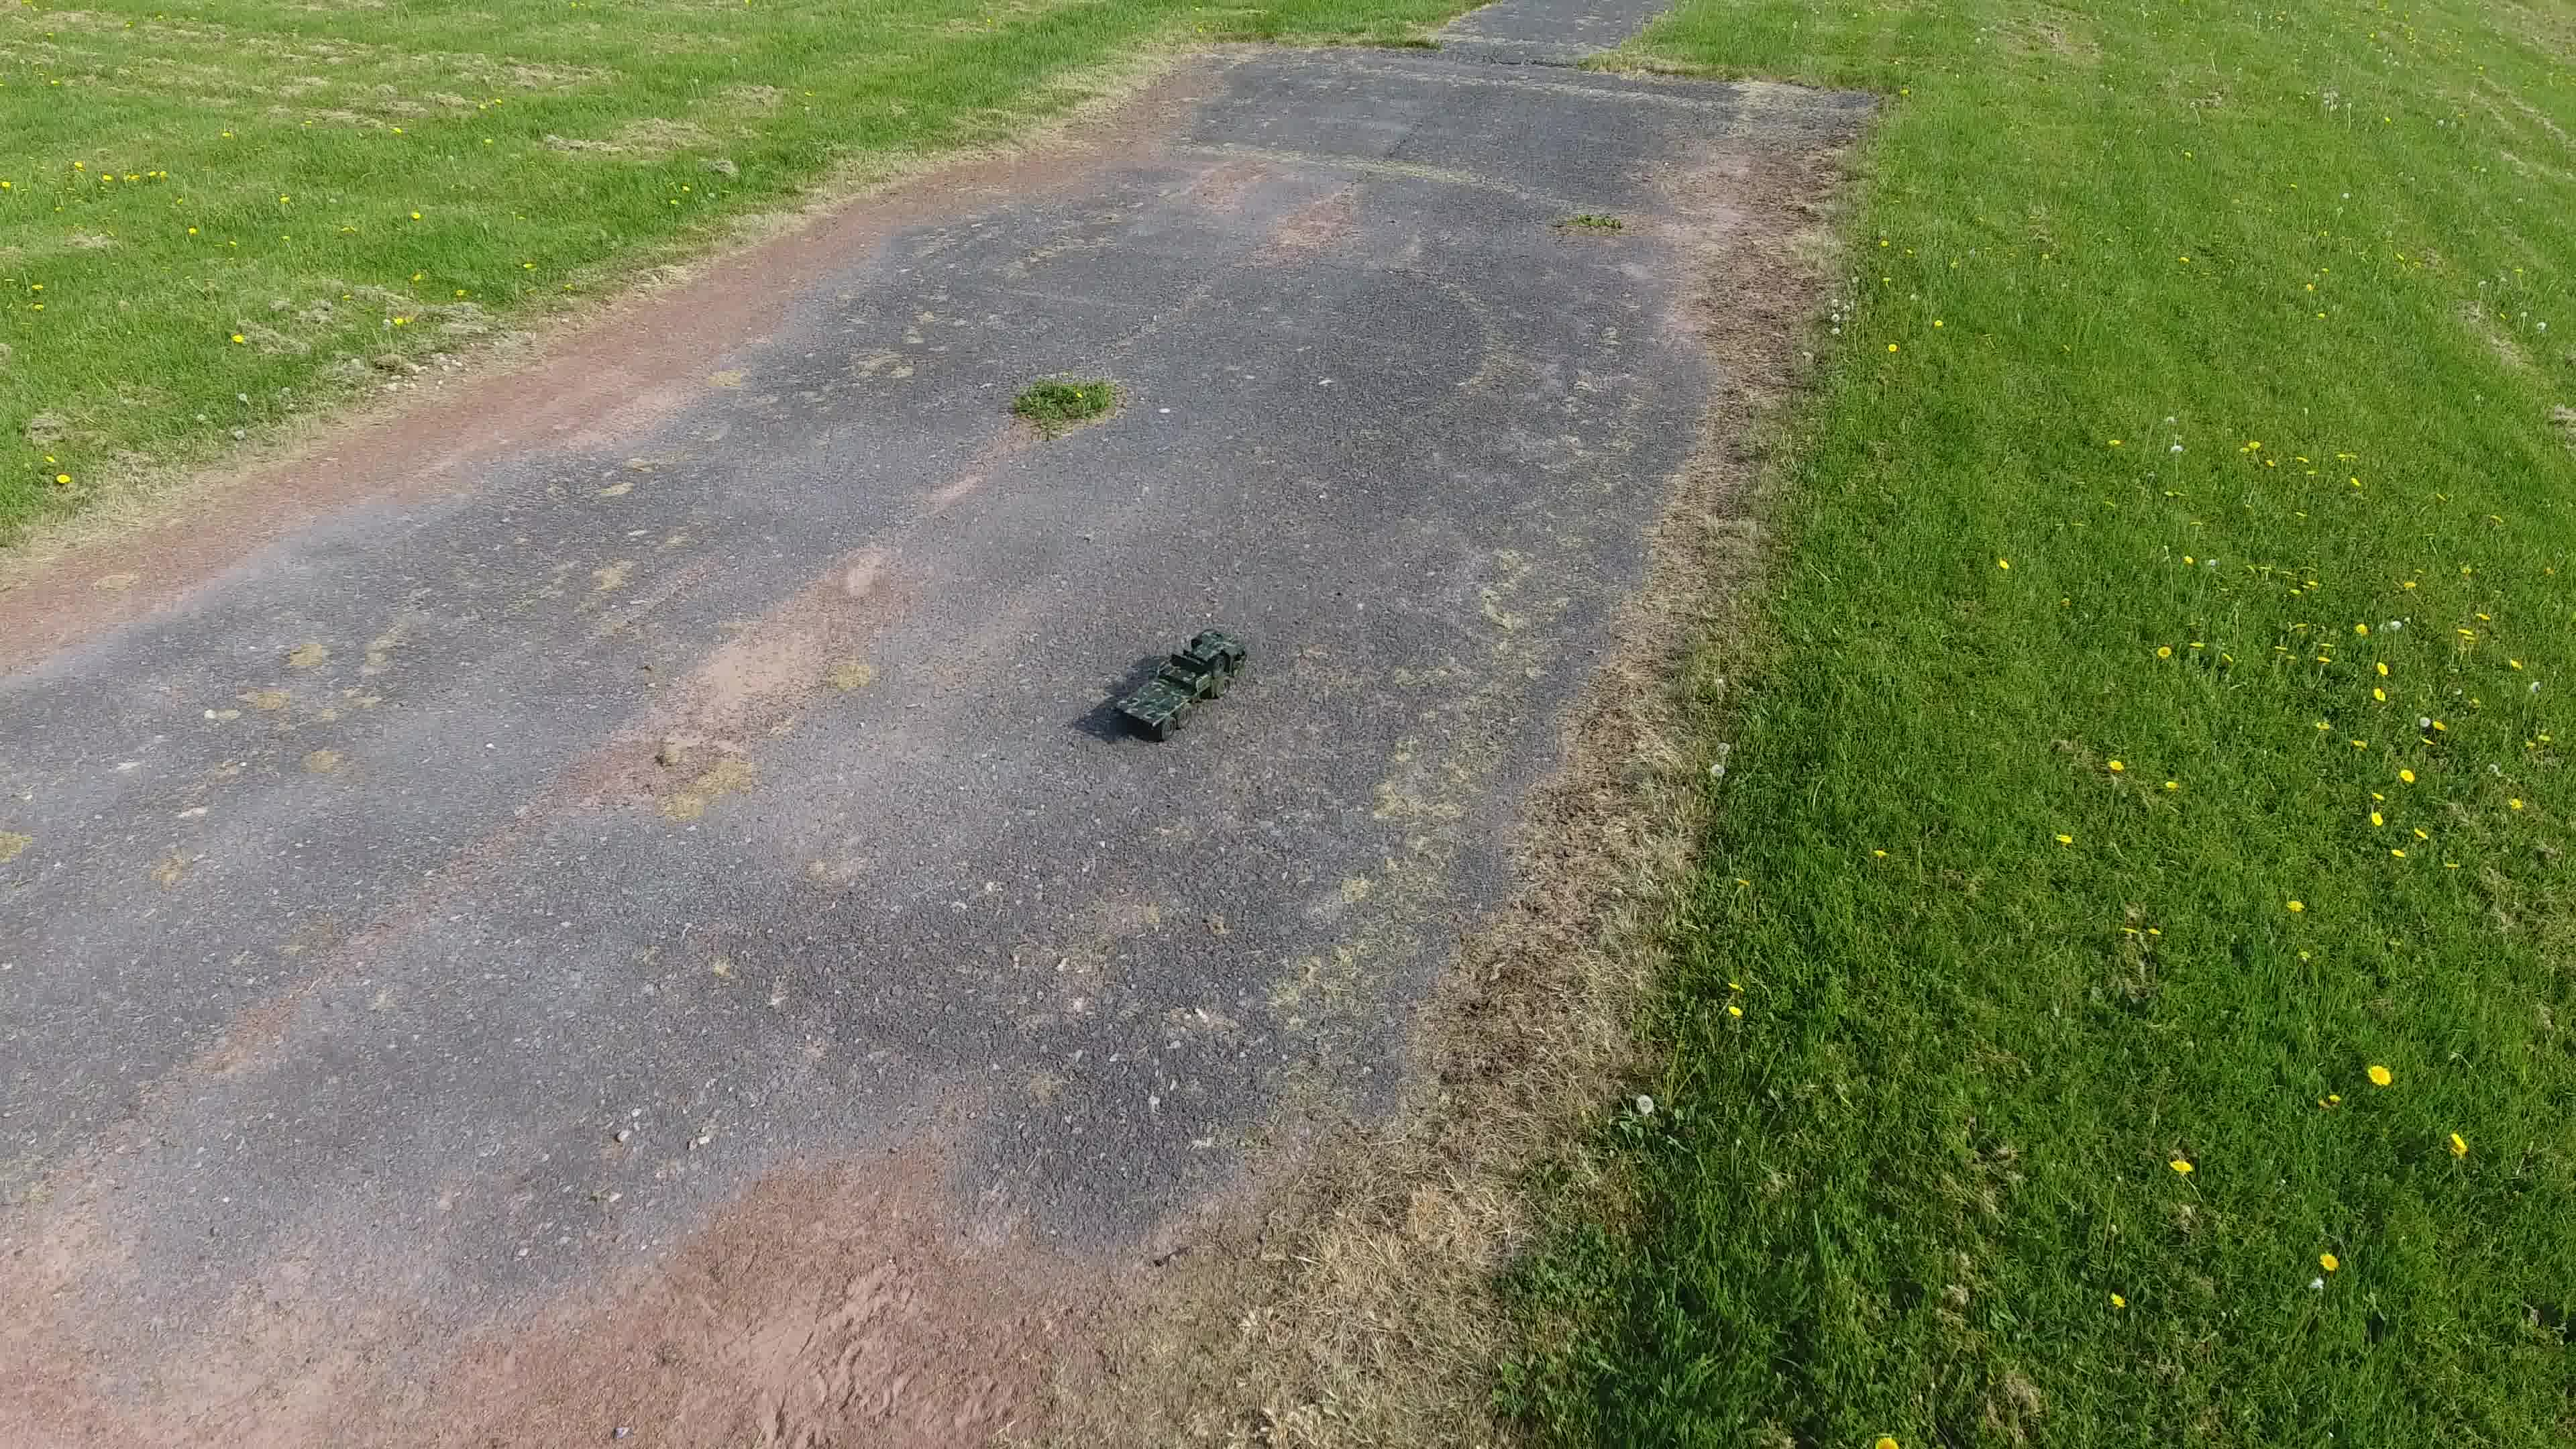transporter9: (1109, 626, 1249, 743)
